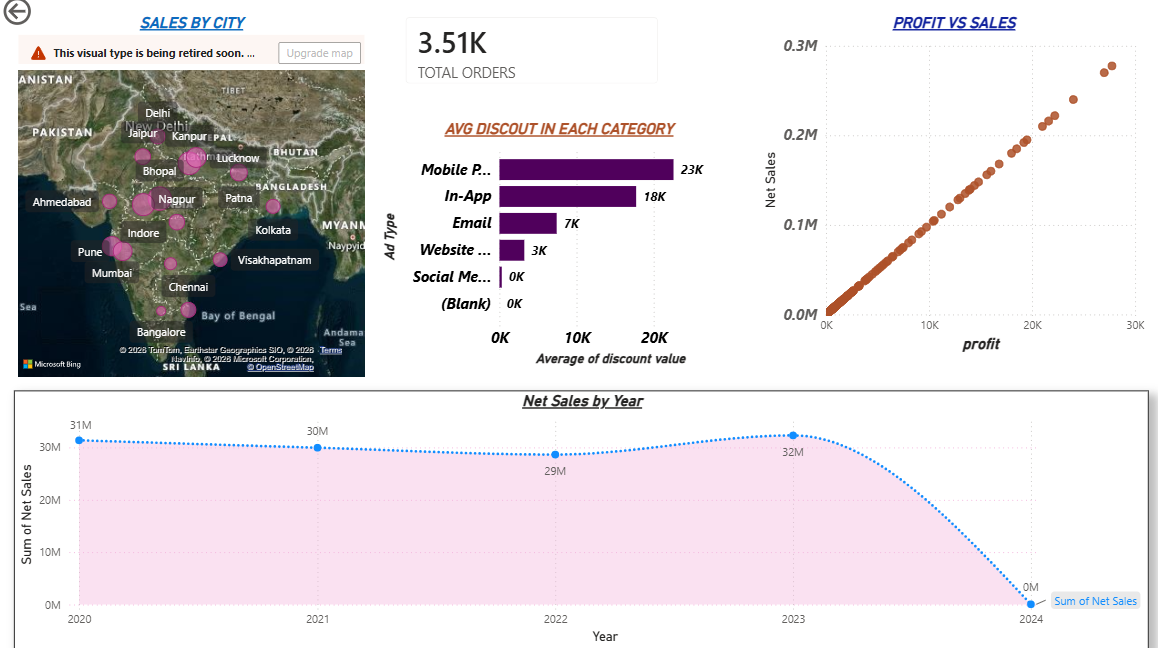

This screenshot's page, from the dashboard's own definition file:
{"tool":"powerbi","page":{"name":"Executive Overview","canvas":[1280,720],"ordinal":0},"visuals":[{"type":"scatterChart","title":"PROFIT VS SALES","fields":{"X":["Fact Table.profit"],"Y":["Fact Table.Net Sales"]},"box":[834.3,22,428.1,377.4],"z":0},{"type":"barChart","title":"AVG DISCOUT IN EACH CATEGORY","fields":{"Y":["Avg(Fact Table.discount value)"],"Category":["Dim Promotion.Ad Type"]},"box":[415.8,138.6,397.9,275.8],"z":1000},{"type":"map","title":"SALES  BY CITY","fields":{"Category":["Dim Customers.City"],"Size":["Sum(Fact Table.Net Sales)"]},"box":[16.5,22,389.7,404.8],"z":2000},{"type":"cardVisual","fields":{"Data":["Count(Fact Table.ORDER ID)"]},"box":[429.5,9.6,311.5,107],"z":3000},{"type":"lineChart","title":"Net Sales by Year","fields":{"Y":["Sum(Fact Table.Net Sales)"],"Category":["DATE TABLE 1.Date.Variation.Date Hierarchy.Year","DATE TABLE 1.Date.Variation.Date Hierarchy.Quarter","DATE TABLE 1.Date.Variation.Date Hierarchy.Month","DATE TABLE 1.Date.Variation.Date Hierarchy.Day"]},"box":[16.5,436.4,1246,284],"z":4000},{"type":"actionButton","box":[0,0,100,40],"z":5000}]}

Visuals, with their boxes in screenshot pixels (x1, y1, x2, y2), scaled from the page's 1280x720 canvas onto the 1158x648 screenshot:
"PROFIT VS SALES" scatterChart: <bbox>755, 20, 1142, 359</bbox>
"AVG DISCOUT IN EACH CATEGORY" barChart: <bbox>376, 125, 736, 373</bbox>
"SALES  BY CITY" map: <bbox>15, 20, 367, 384</bbox>
cardVisual - Count(Fact Table.ORDER ID): <bbox>389, 9, 670, 105</bbox>
"Net Sales by Year" lineChart: <bbox>15, 393, 1142, 647</bbox>
actionButton: <bbox>0, 0, 90, 36</bbox>
